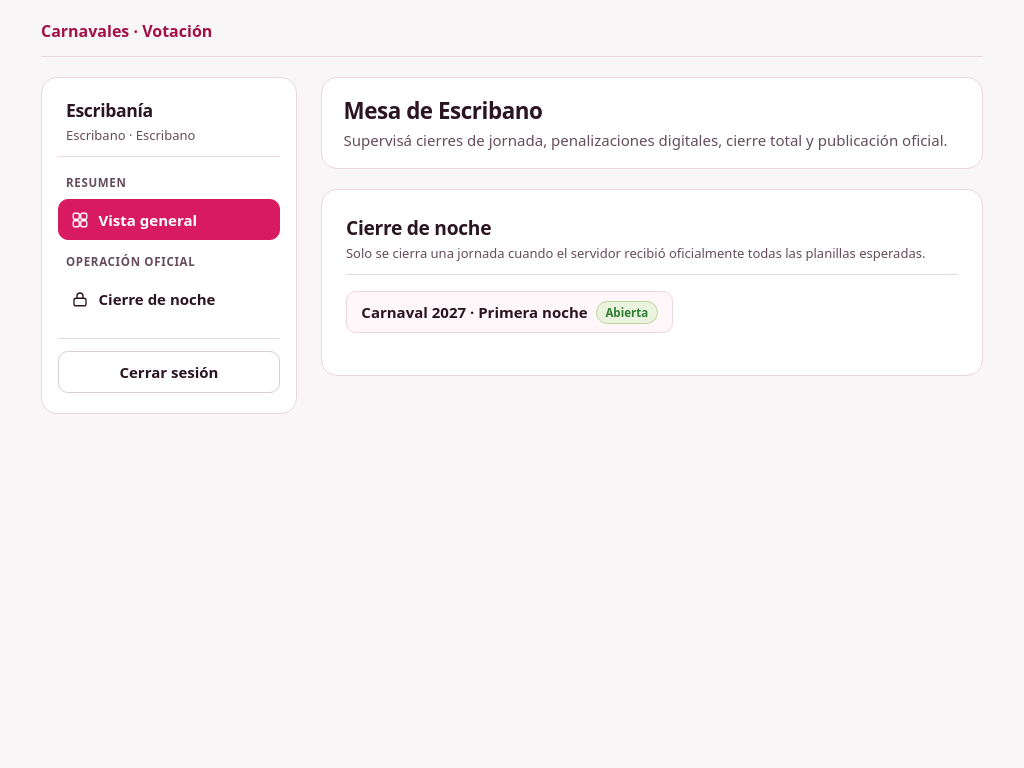
Test case: the Escribano sees a blocker and closes a ready night only after confirmation
The image size is (1024, 768).
Step 1. Click the button "Carnaval 2027 · Primera noche Abierta" → (510, 312), box [346,291,673,333]
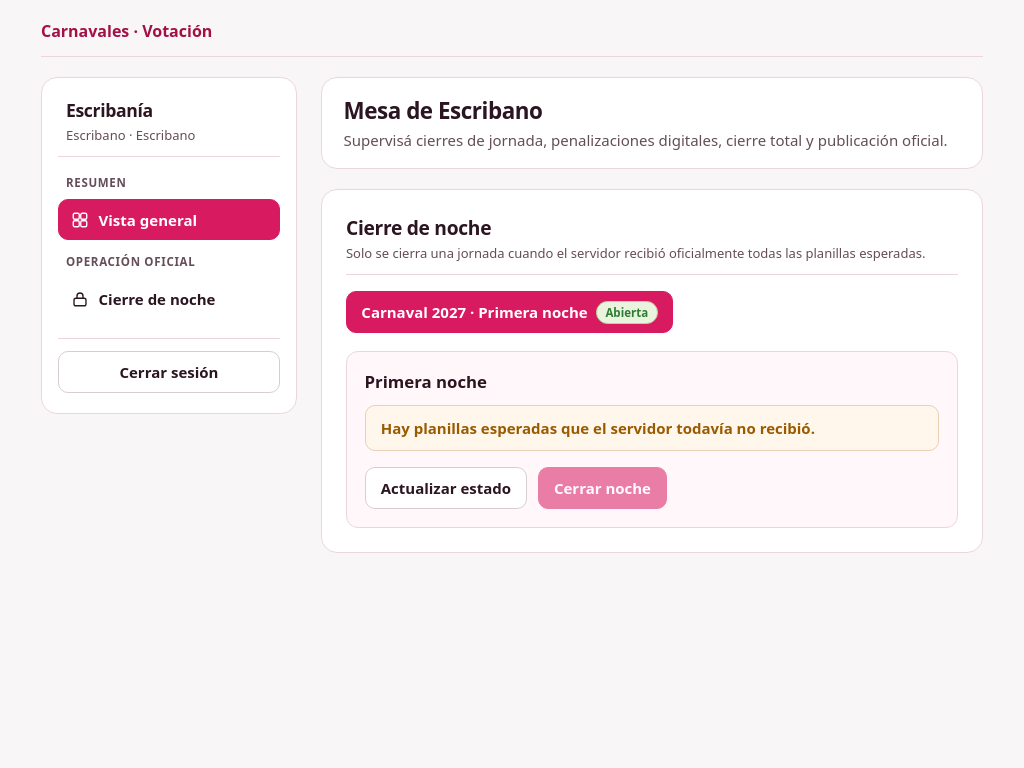
Now the text "Hay planillas esperadas que el servidor todavía no recibió." is shown, box [364,404,939,450]
Now the button "Cerrar noche" is disabled, box [538,466,667,509]
Step 2. Click the button "Actualizar estado" → (446, 488), box [364,466,527,509]
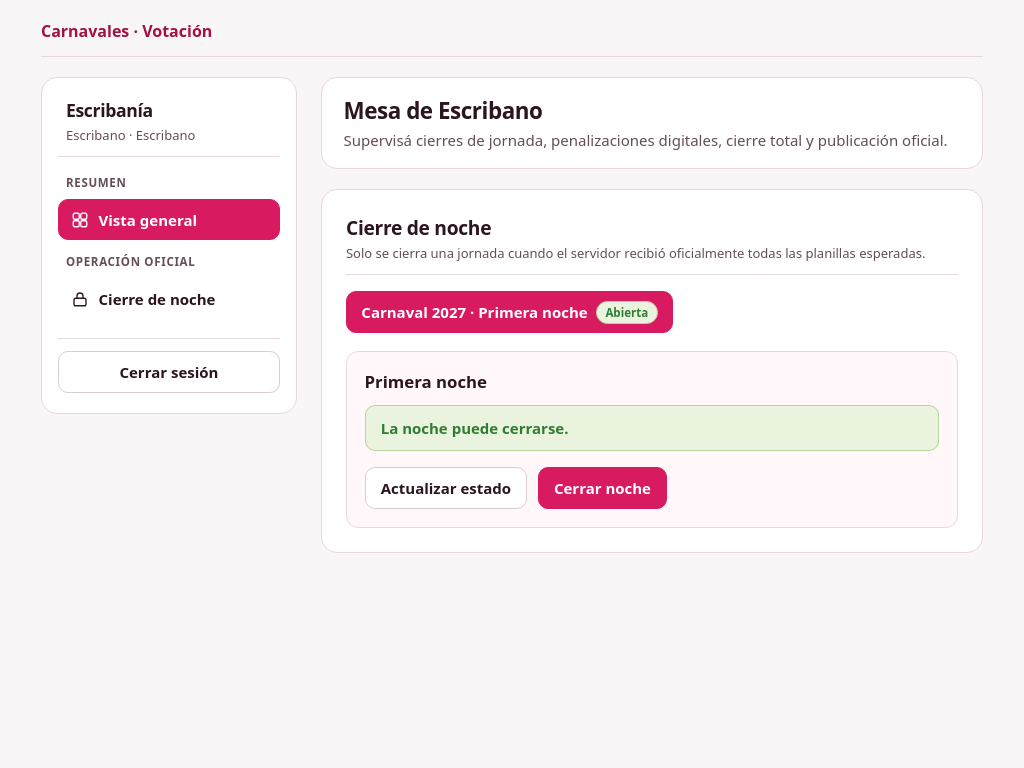
Now the text "La noche puede cerrarse." is shown, box [364,404,939,450]
Step 3. Click the button "Cerrar noche" → (602, 488), box [538,466,667,509]
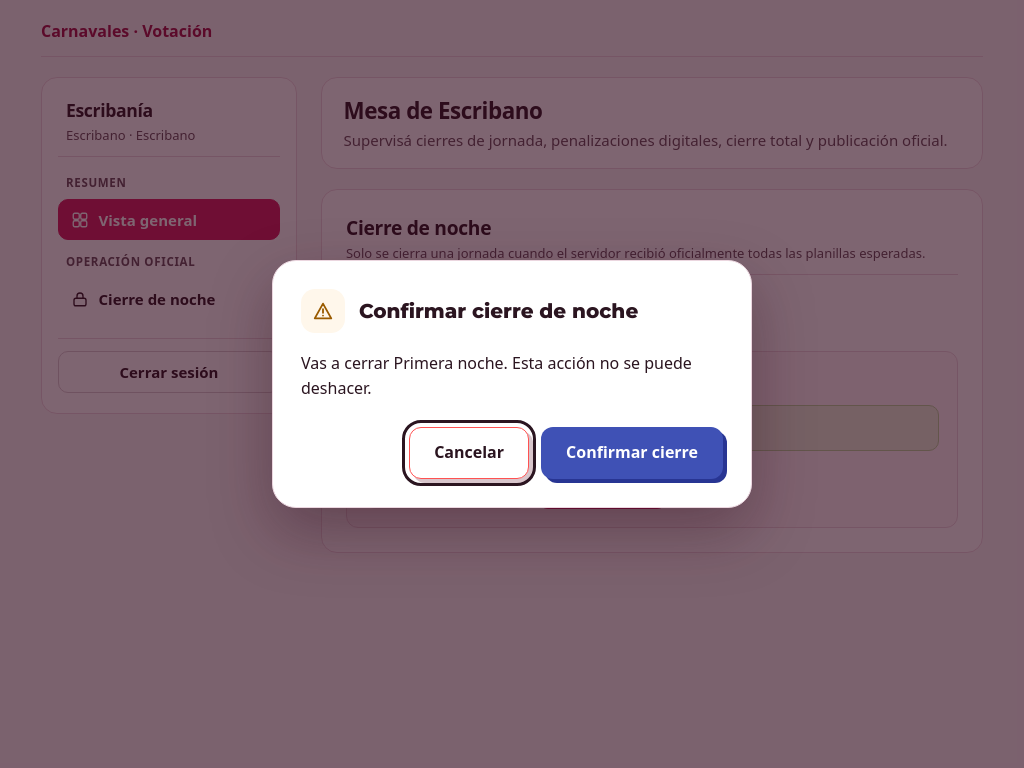
Step 4. Click the button "Confirmar cierre" → (632, 453), box [541,427,723,479]
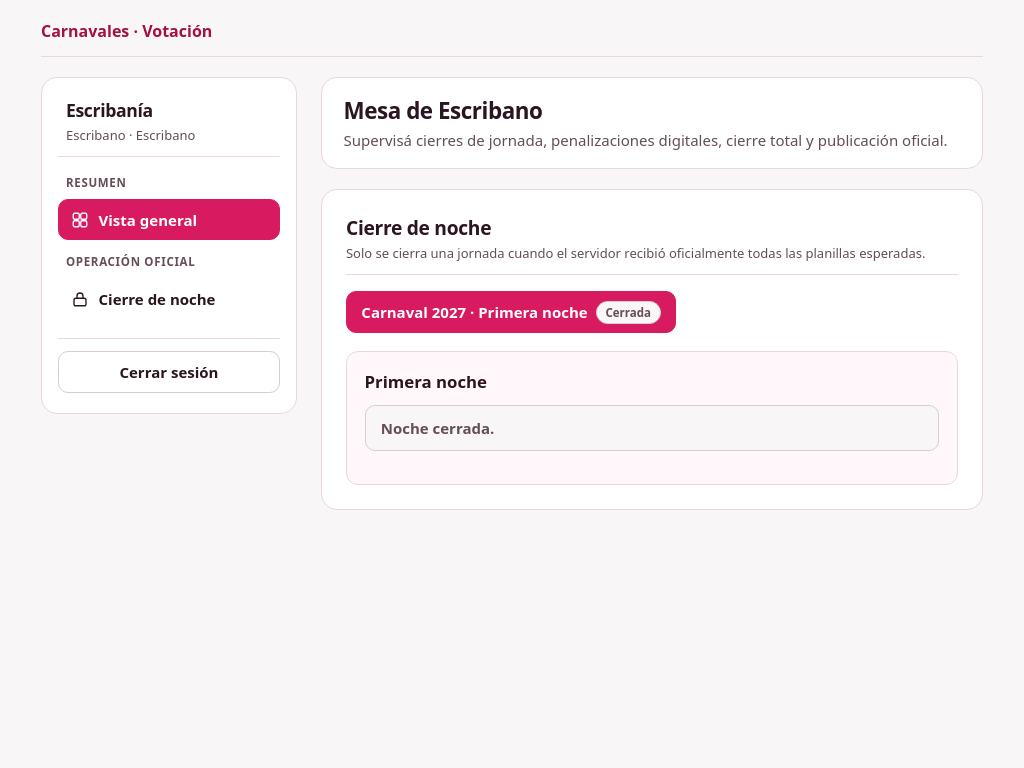
Now the text "Noche cerrada." is shown, box [364,404,939,450]
